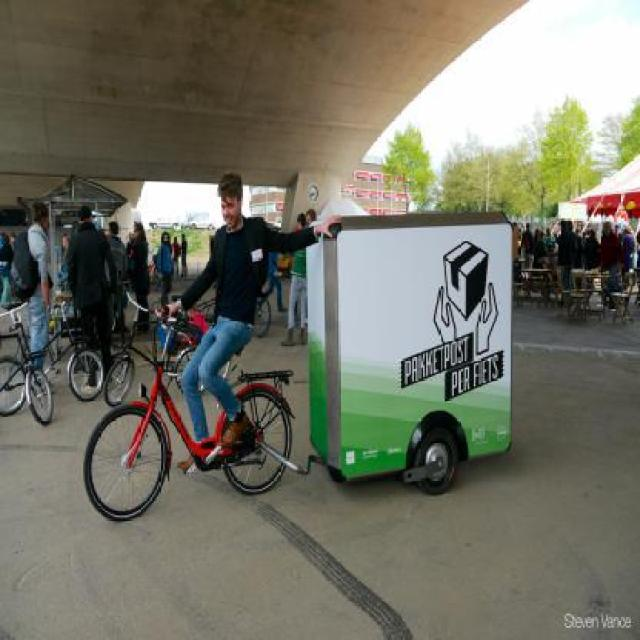Person: (165, 172, 342, 470), (512, 218, 638, 304), (67, 202, 119, 398), (24, 202, 51, 390), (280, 212, 308, 341), (128, 223, 150, 335), (600, 219, 625, 310), (104, 219, 131, 278), (0, 231, 15, 311), (156, 229, 170, 306), (56, 236, 72, 281), (178, 232, 188, 278), (171, 235, 178, 278), (308, 208, 317, 229)
